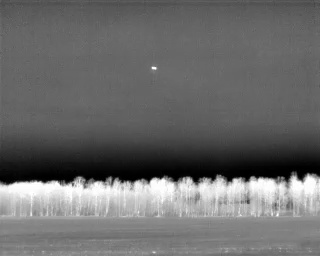DRONE: (148, 63, 160, 74)
